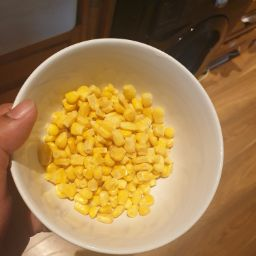Corn Kernel: (59, 124, 188, 213), (47, 90, 119, 216), (63, 82, 177, 147), (39, 119, 96, 197)
